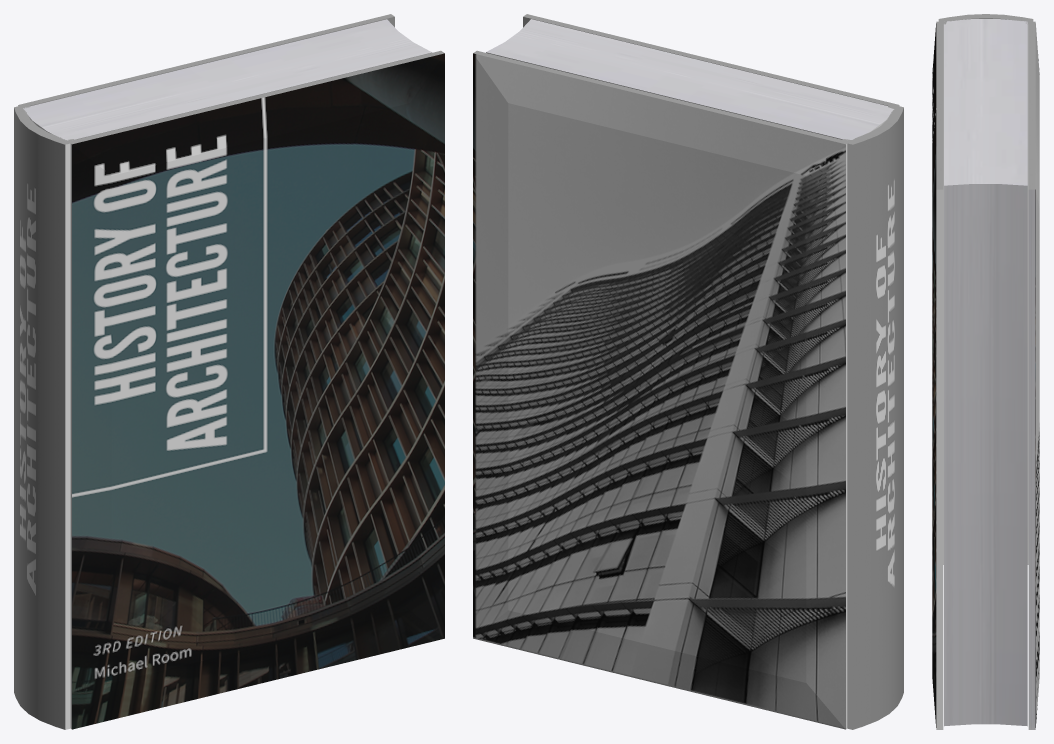
Rendered from Book 2.fbx.
The picture shows the model from 3 angles, left to right: view 1: azimuth 30°, elevation 25°; view 2: azimuth 150°, elevation 25°; view 3: azimuth 270°, elevation 25°; orthographic projection. The views are drawn at different scales.
Parts seen in each view (by area): view 1: Book 2; view 2: Book 2; view 3: Book 2.
Boxes of the visible parts, <box> form: Book 2: <box>14,14,444,729</box>; Book 2: <box>473,14,903,729</box>; Book 2: <box>932,14,1039,729</box>.
Size of the model in its own units: 20.9 by 30 by 5.4.
